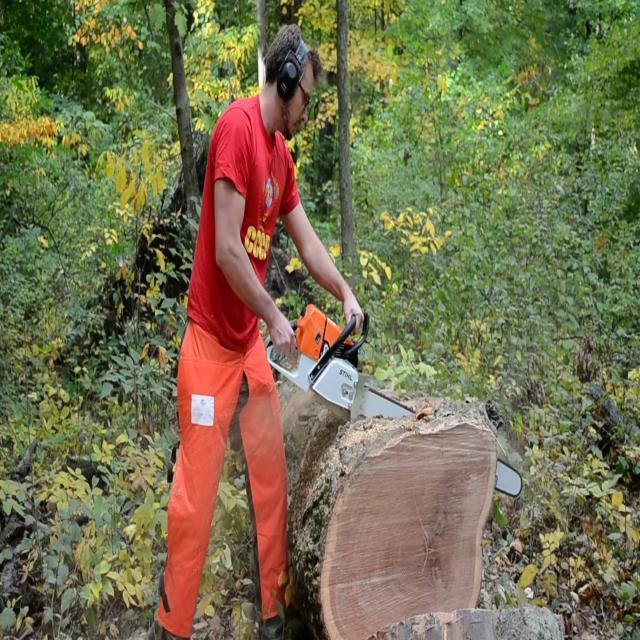Chainsaw: (246, 278, 538, 528)
